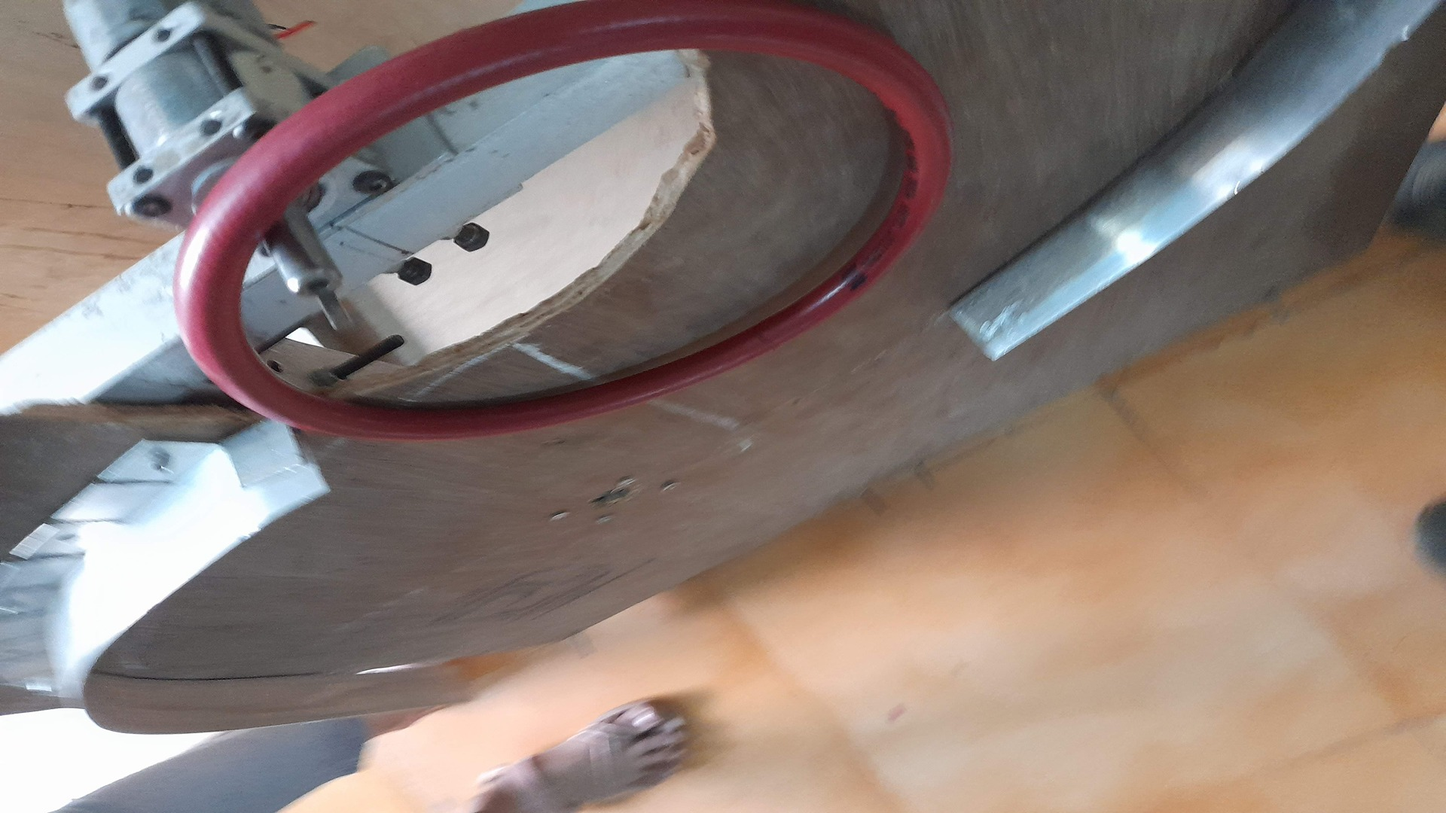Red ring: (183, 11, 940, 437)
